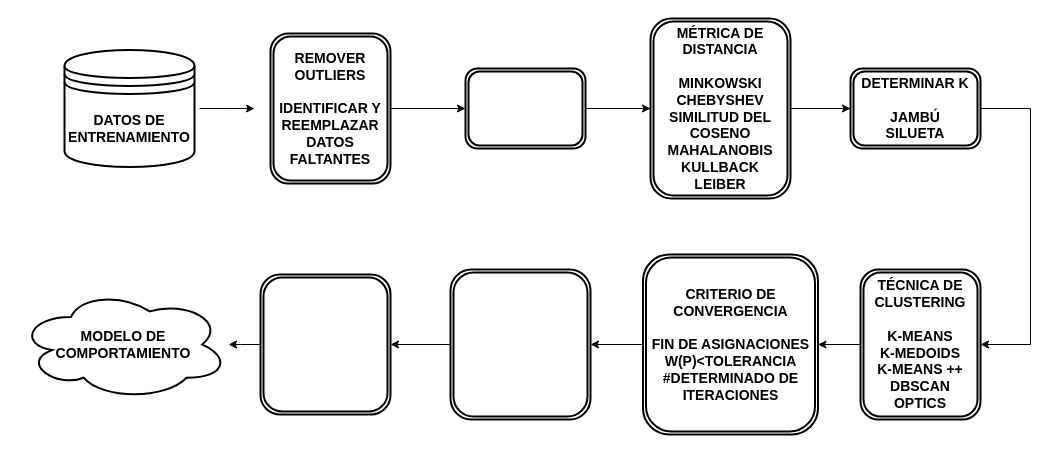
Image size: 1056x452. Some labels were removed from this diagram. The shapes that lost their labels are listed below. From the top down, each one's box as (x1, y1, x2, y2) in pixels, then its label:
(464, 67, 586, 149): NORMALIZAR ESTANDARIZAR
(259, 273, 391, 415): FORMAR ESTADOS
(449, 268, 591, 420): CALIDAD DE LA AGRUPACIÓN DAVIES-BOULDIN INERCIA SILUETA
